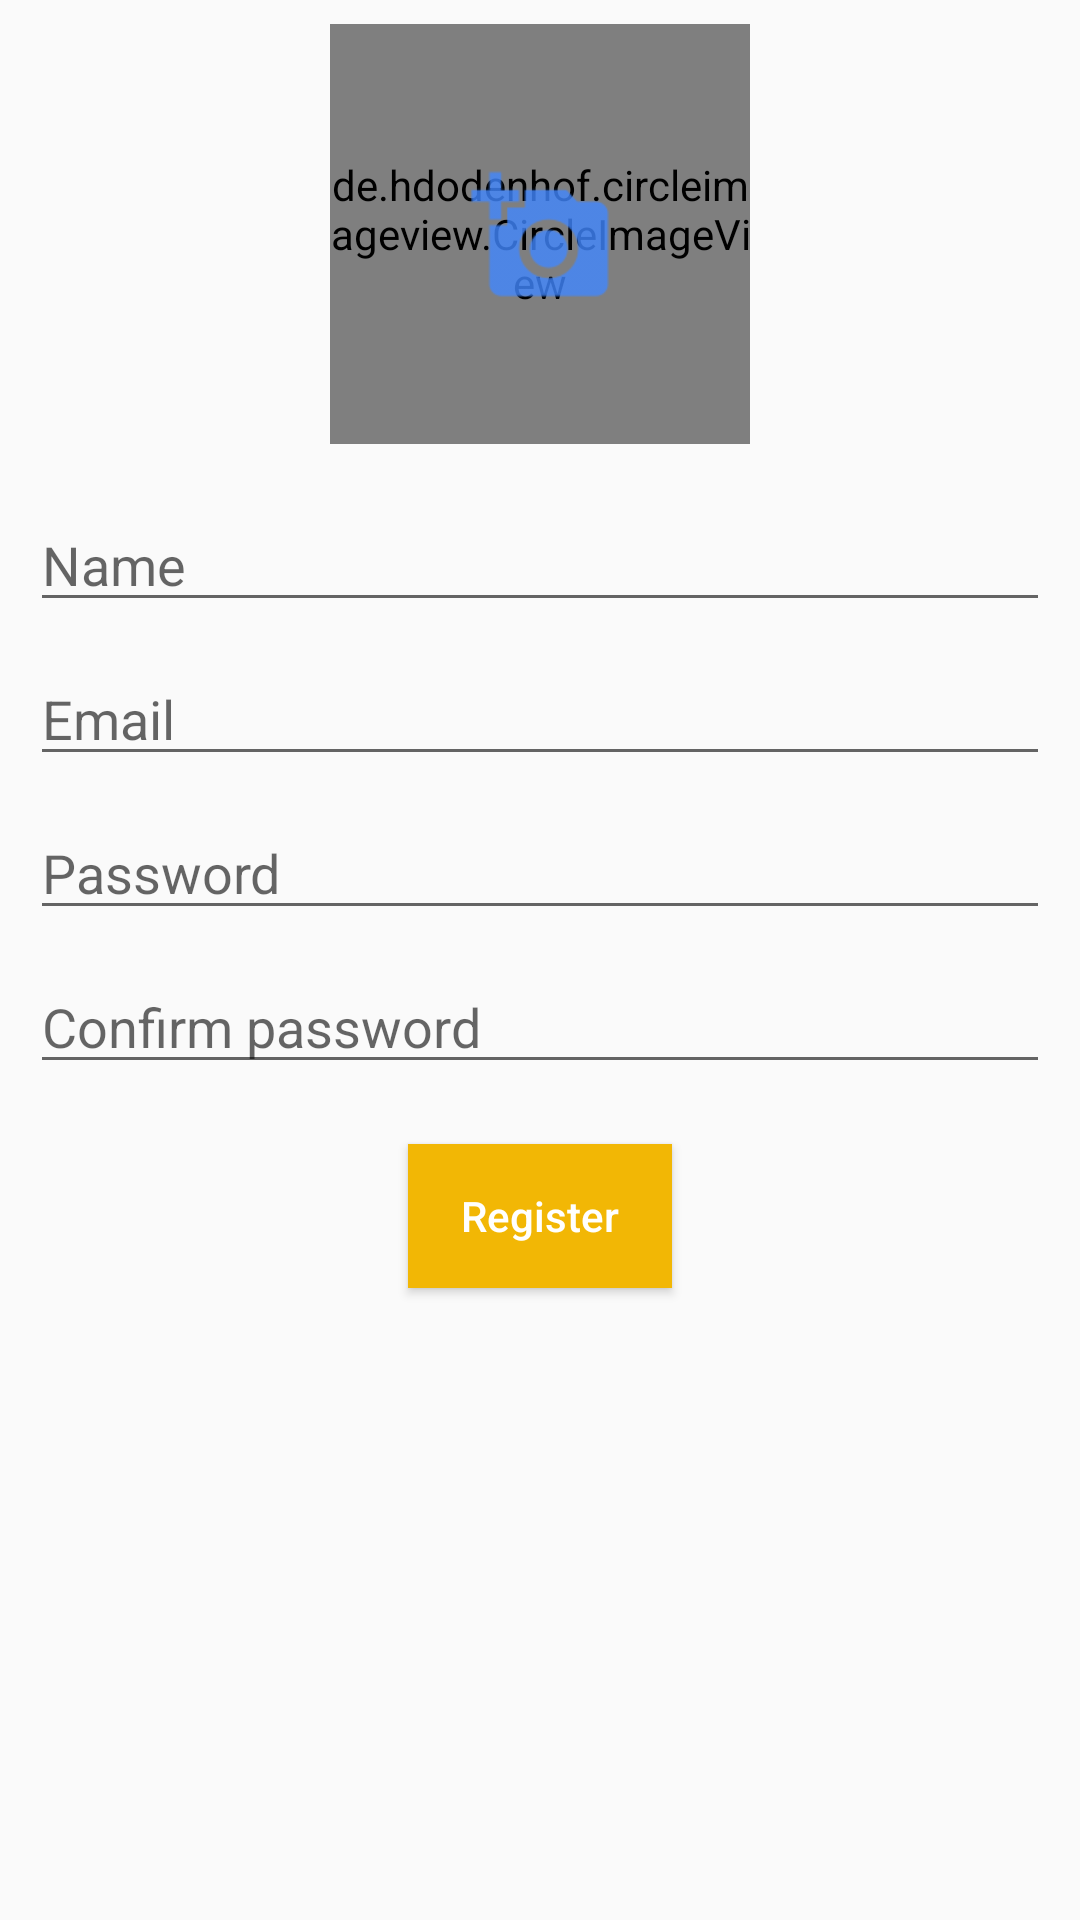

Named icons in this screenshot (1080w x 1920h) and their bounding boxes, (left=x1, top=y1, right=x2, bottom=y2):
camera: (left=465, top=169, right=609, bottom=300)
